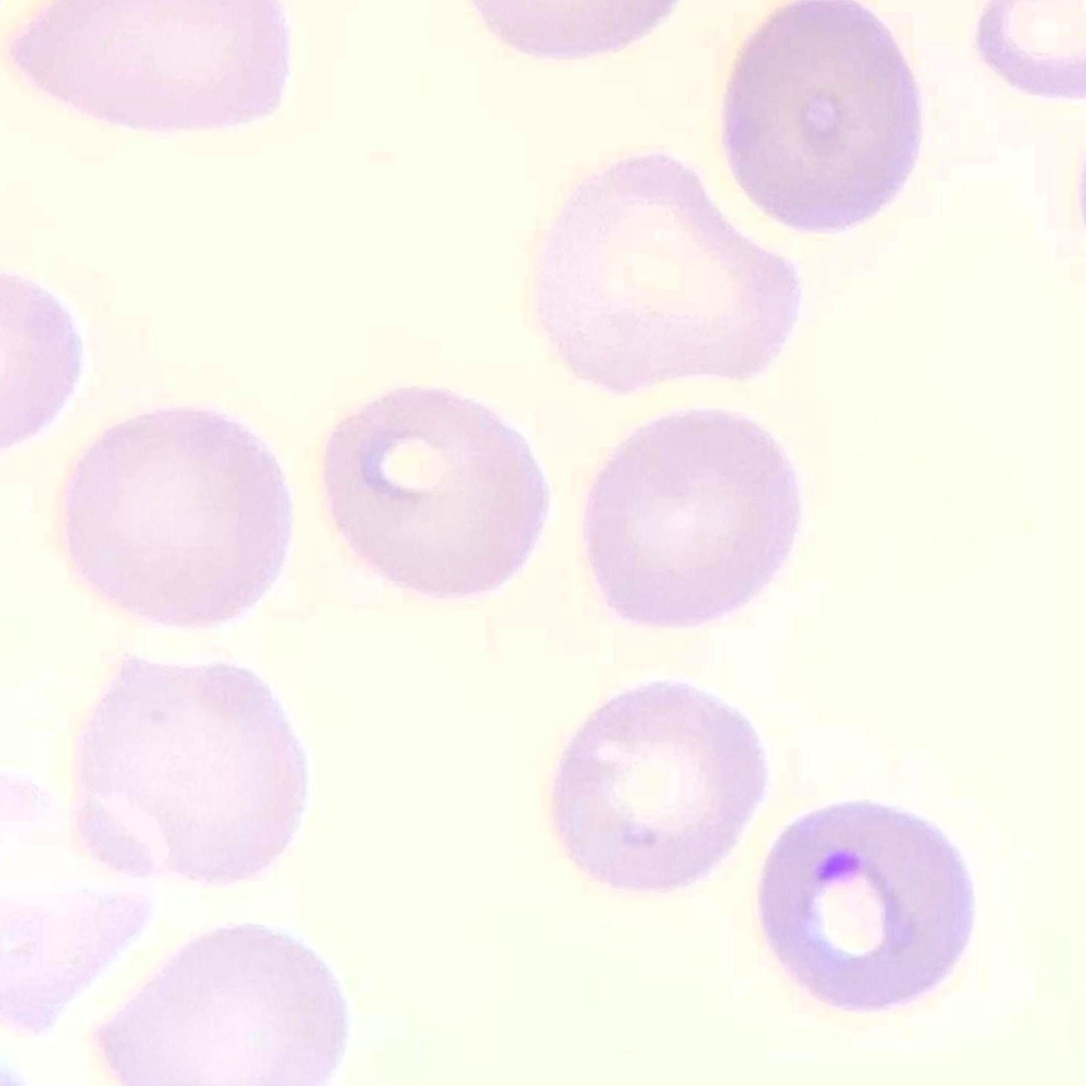Infected: (760, 802, 973, 1001)
Uninfected: (545, 151, 799, 391), (81, 661, 306, 888), (66, 406, 289, 630), (325, 387, 547, 598), (549, 678, 763, 894), (726, 0, 921, 236), (592, 406, 799, 628), (100, 925, 351, 1086), (11, 0, 291, 132)
